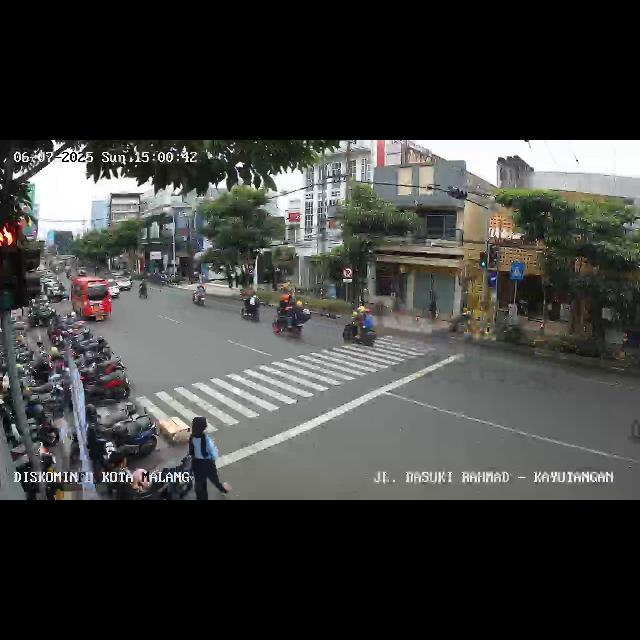car: (70, 277, 111, 323), (112, 276, 134, 294), (109, 280, 121, 300)
motorcycle: (273, 297, 309, 341), (342, 306, 378, 348), (240, 292, 262, 324), (192, 281, 206, 309), (138, 276, 148, 300)
person: (184, 413, 223, 499)
